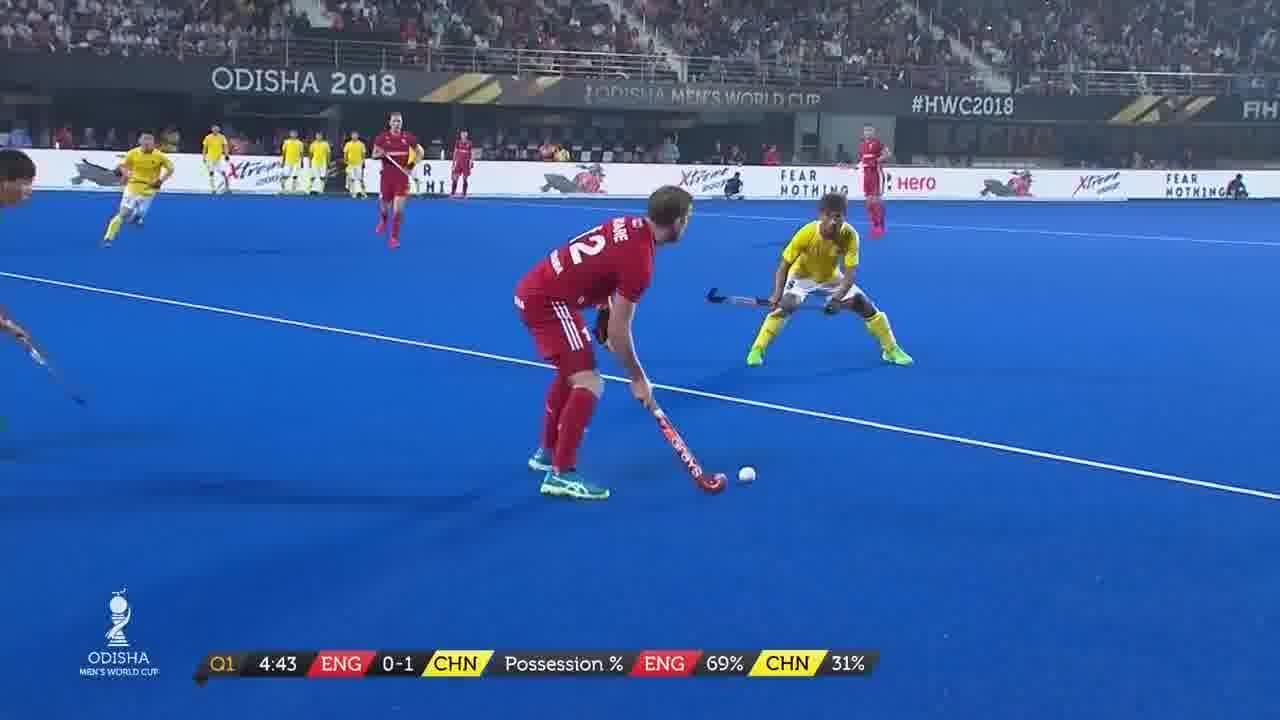ball: (732, 456, 766, 498)
